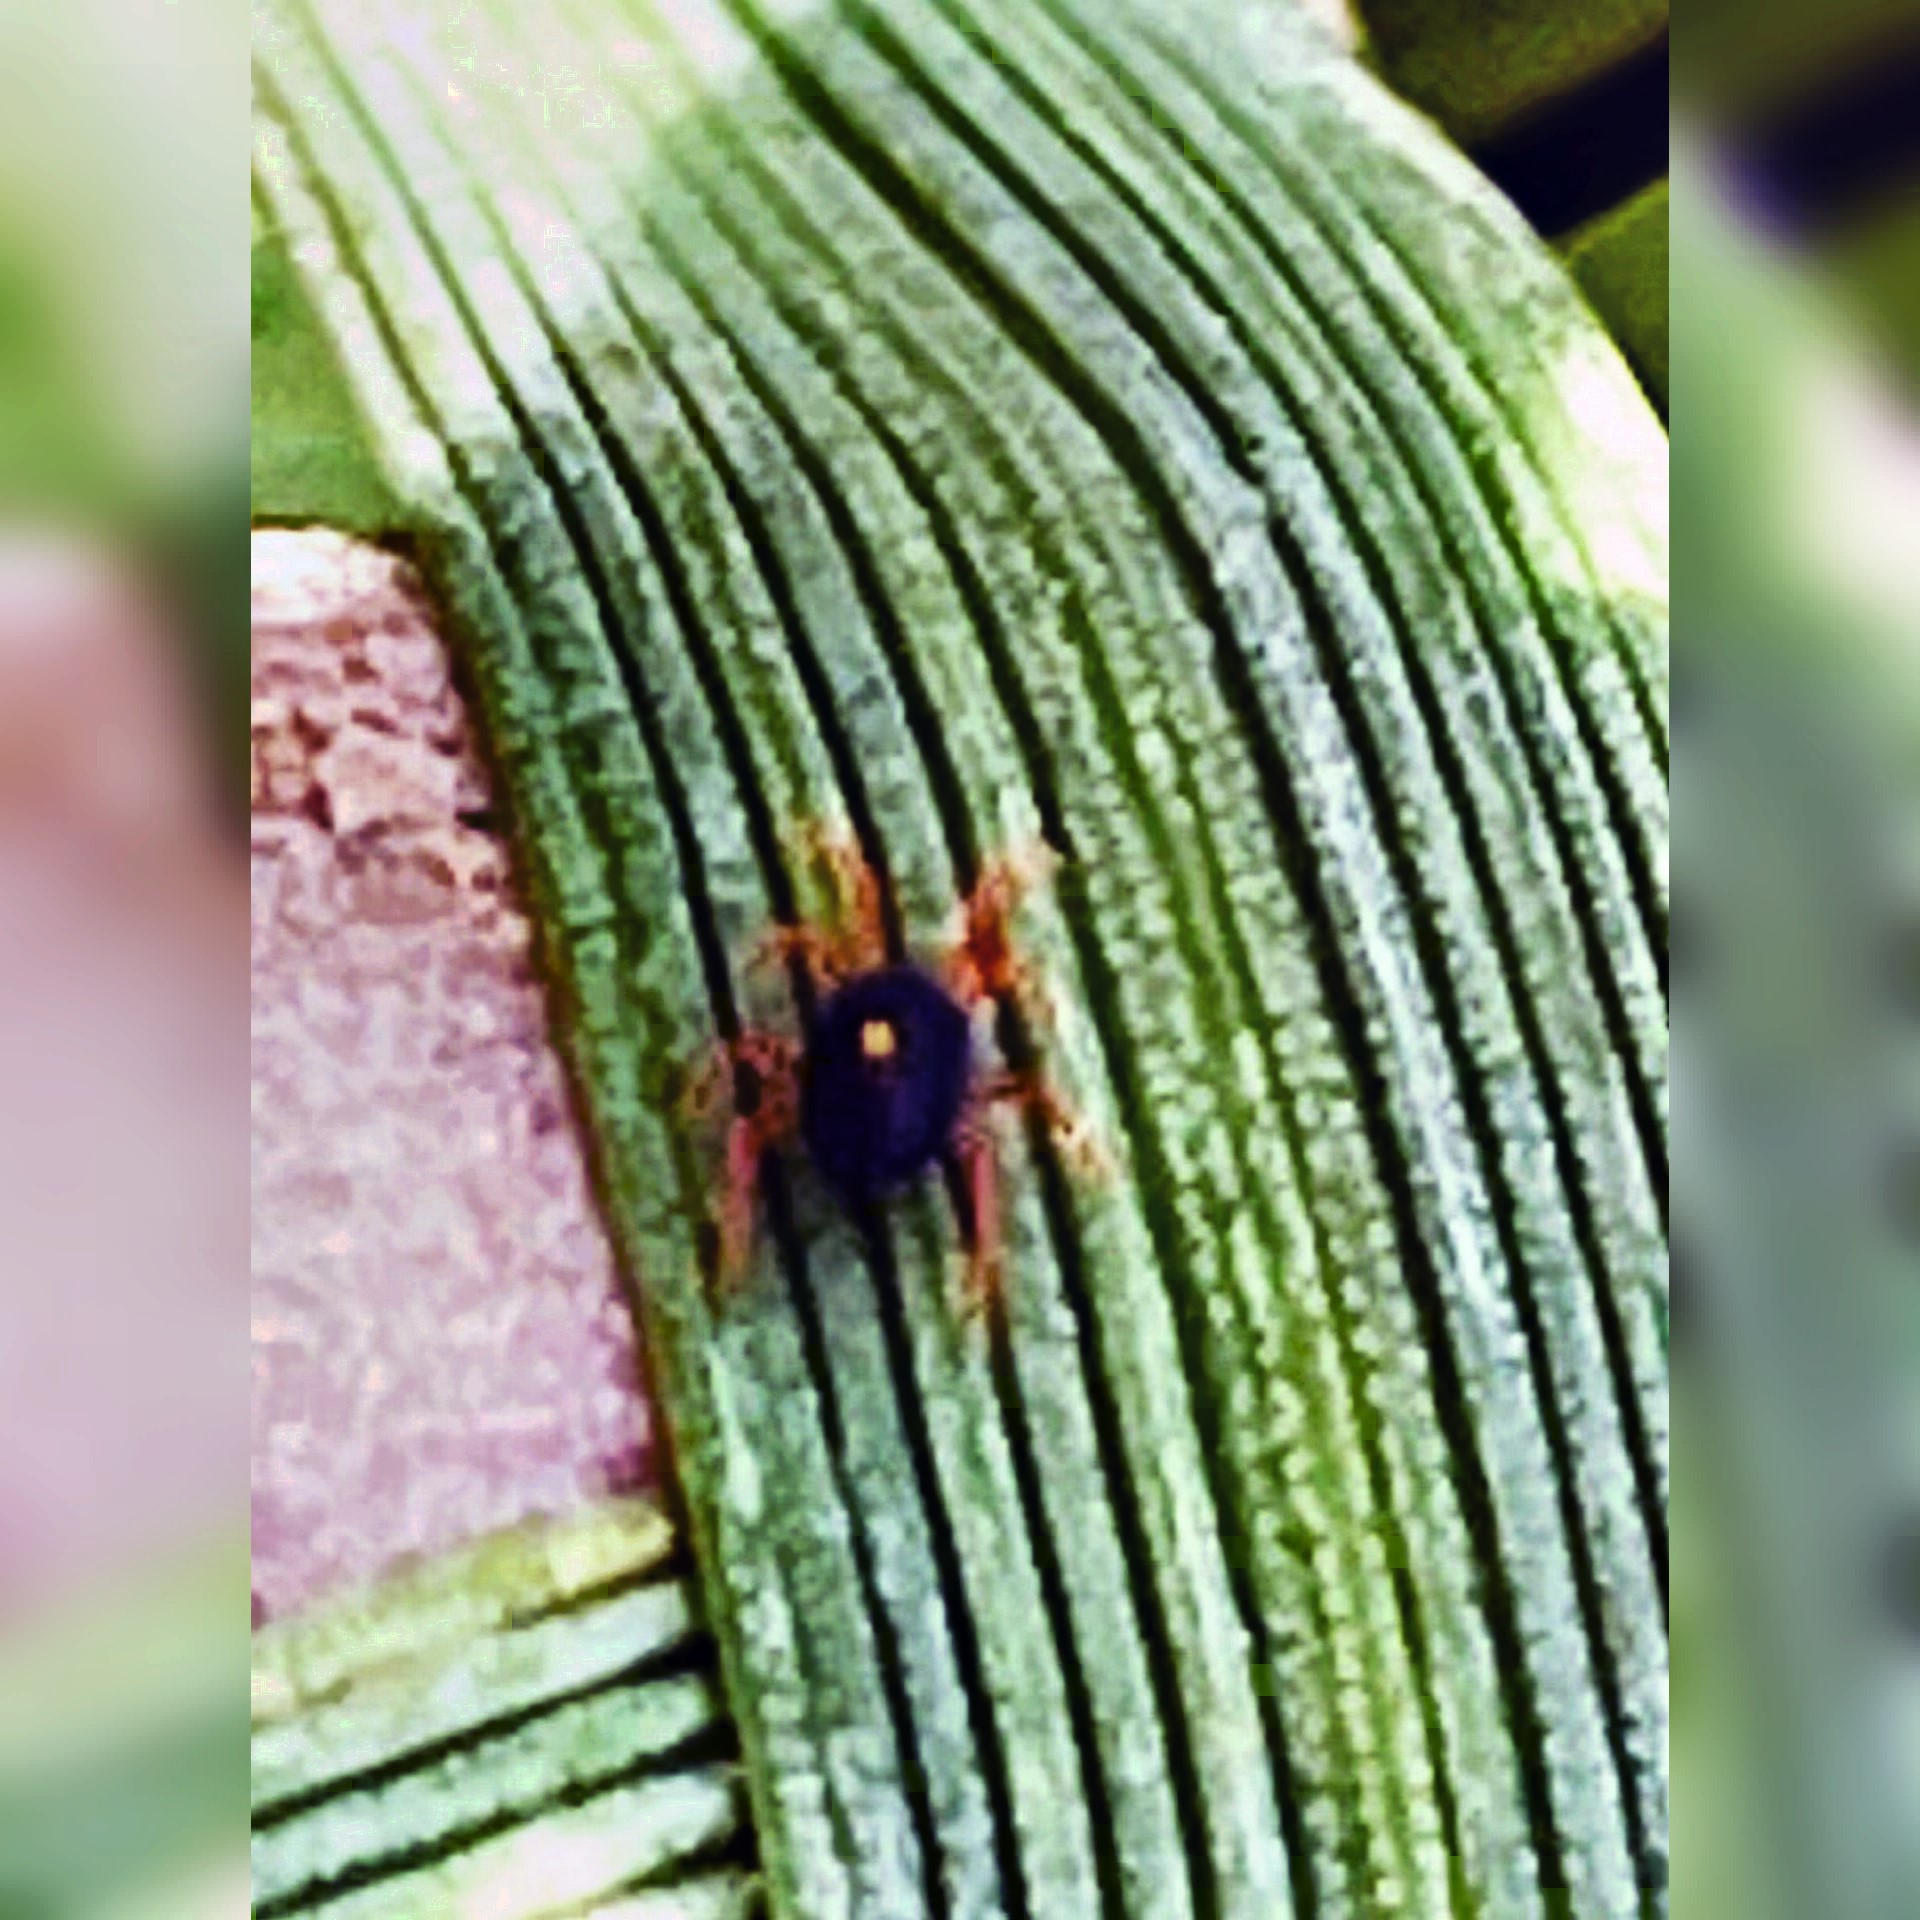Wheat Red Spider: (645, 767, 1092, 1347)
